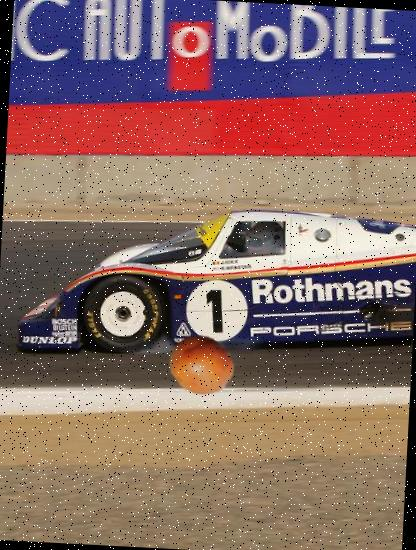Apricot: (169, 332, 236, 399)
